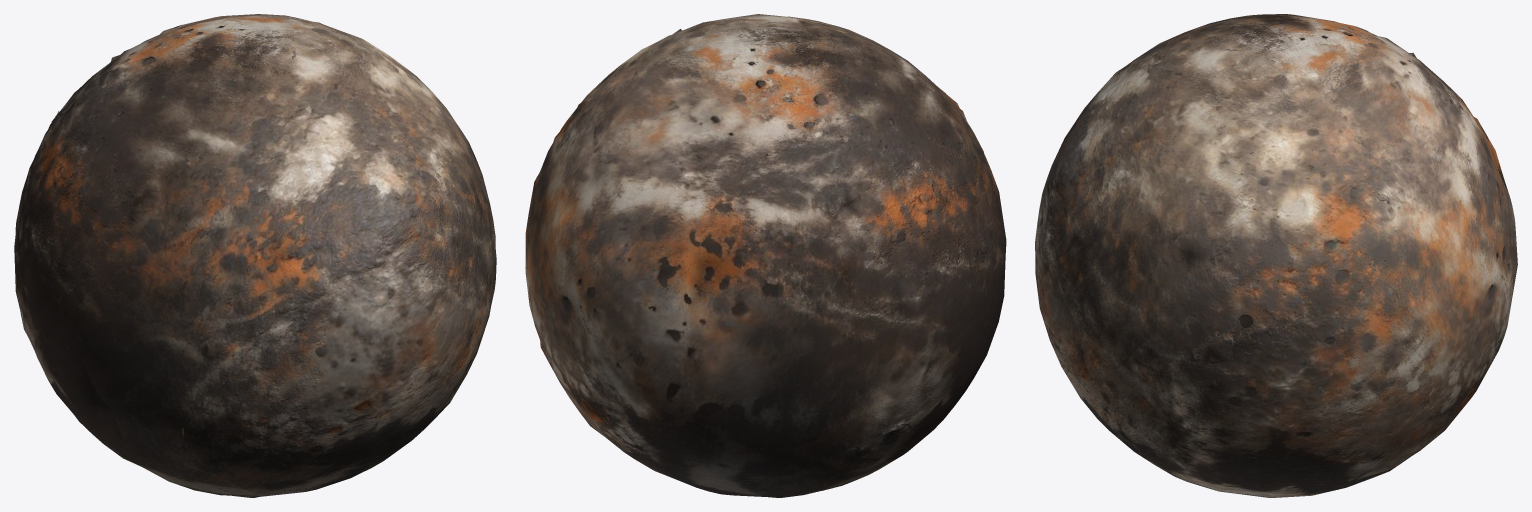
File: ganymede.glb
3 renders of one model, left to right at view 1: azimuth 30°, elevation 25°; view 2: azimuth 150°, elevation 25°; view 3: azimuth 270°, elevation 25°, orthographic.
Bounding box in the file's own units: 2 × 2 × 2.
Materials: 1 (1 with a texture image).
